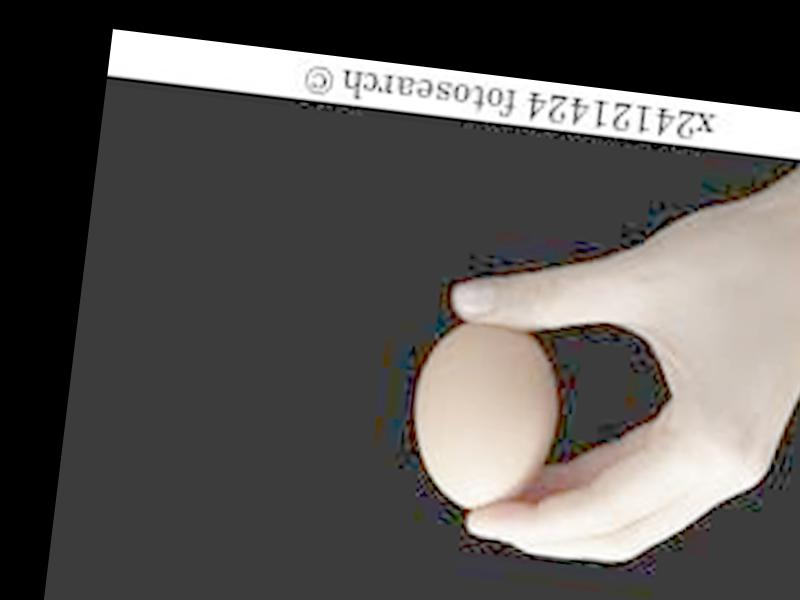Eggs: (404, 315, 565, 522)
